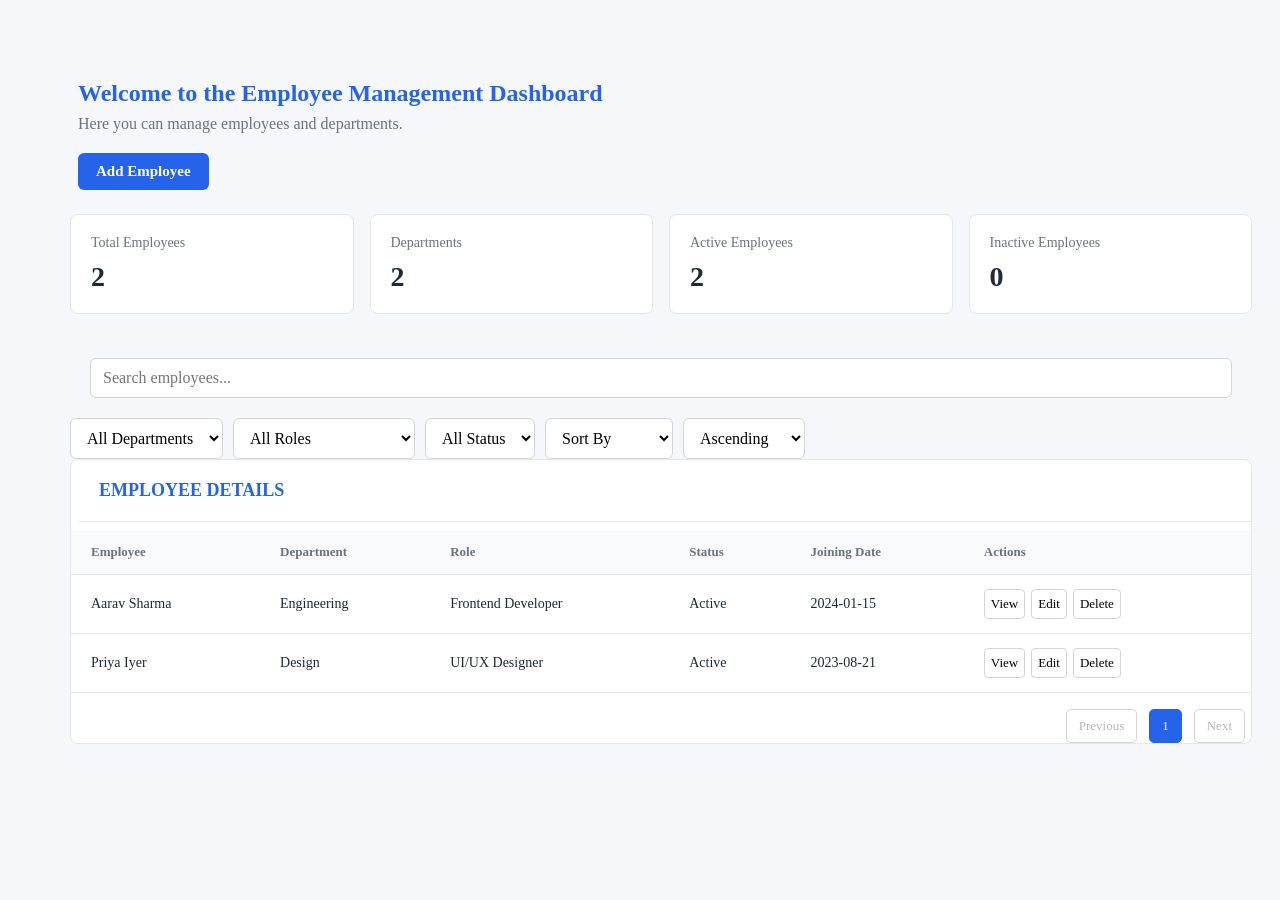
Search › should search employee by last name
The width and height of the screenshot is (1280, 900).
Type "Sharma" into the field with placeholder "Search employees..." at [661, 378], box left=90, top=358, right=1232, bottom=398
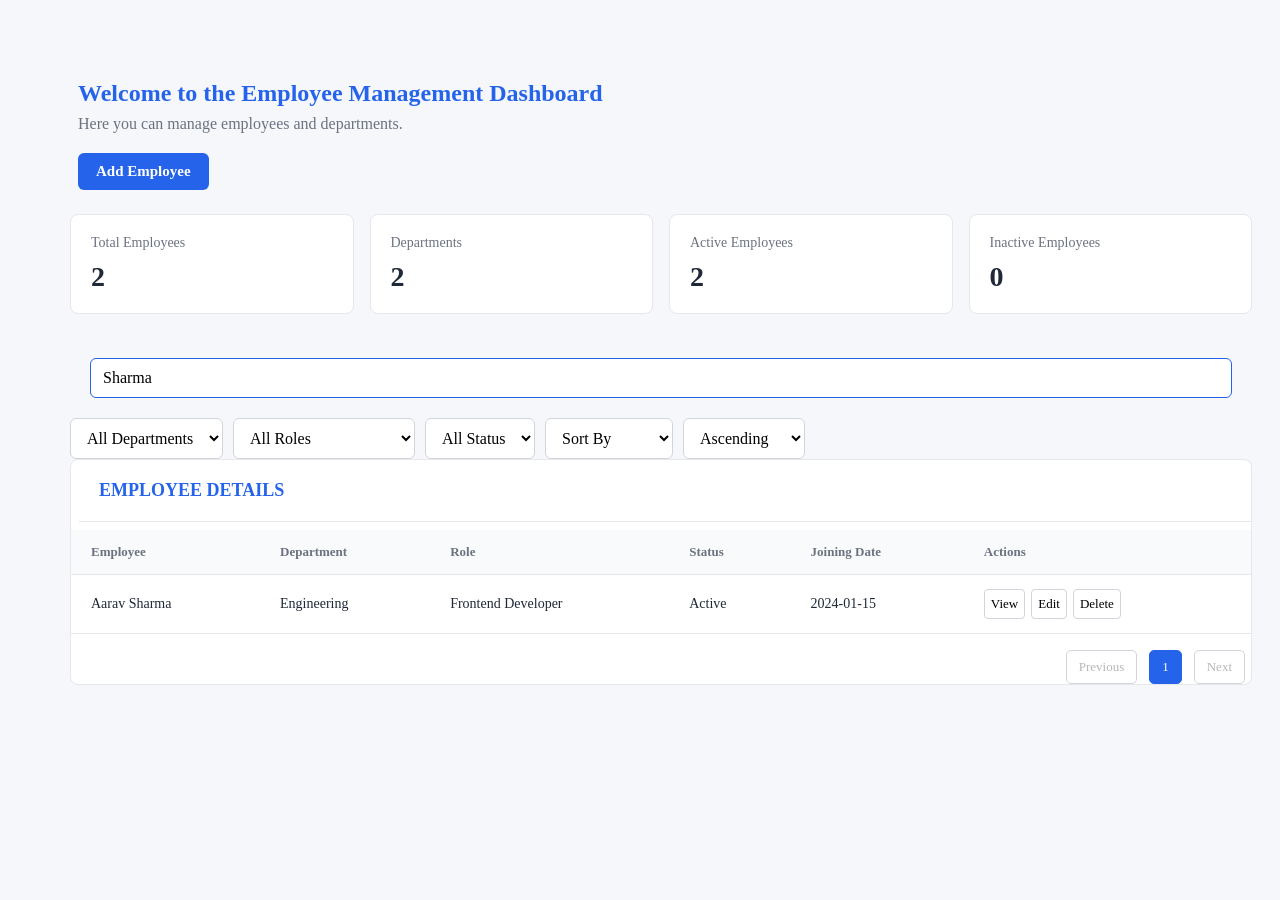
expect the text "Aarav Sharma" is shown: met, box left=71, top=574, right=260, bottom=634
expect the text "Priya Iyer" is gone: met
